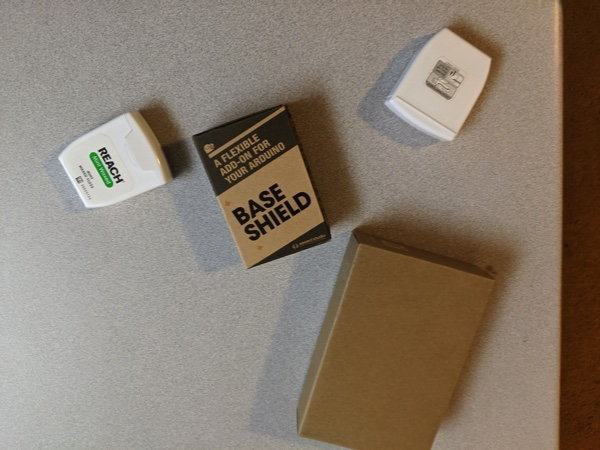cardboard: (293, 226, 511, 450), (187, 97, 344, 281)
plastic: (43, 94, 182, 224), (380, 16, 497, 149)
